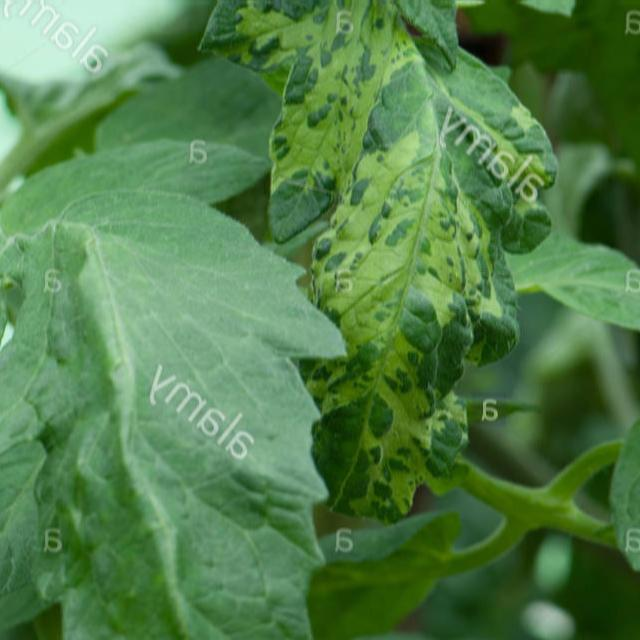Tomato leaf mosaic virus: (234, 0, 553, 528), (0, 160, 350, 640), (148, 0, 499, 44)
